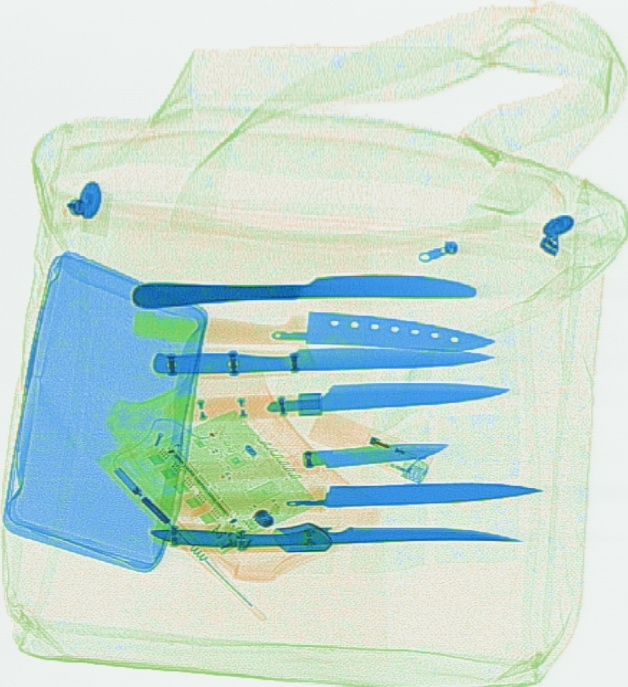knife: (127, 308, 493, 354), (148, 481, 540, 513), (131, 269, 476, 305), (167, 381, 507, 417), (149, 526, 518, 553), (150, 345, 493, 372), (166, 443, 447, 472)
lighter: (298, 406, 433, 485)
